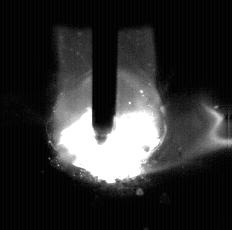arame: (92, 0, 118, 144)
poca: (53, 0, 164, 230)
